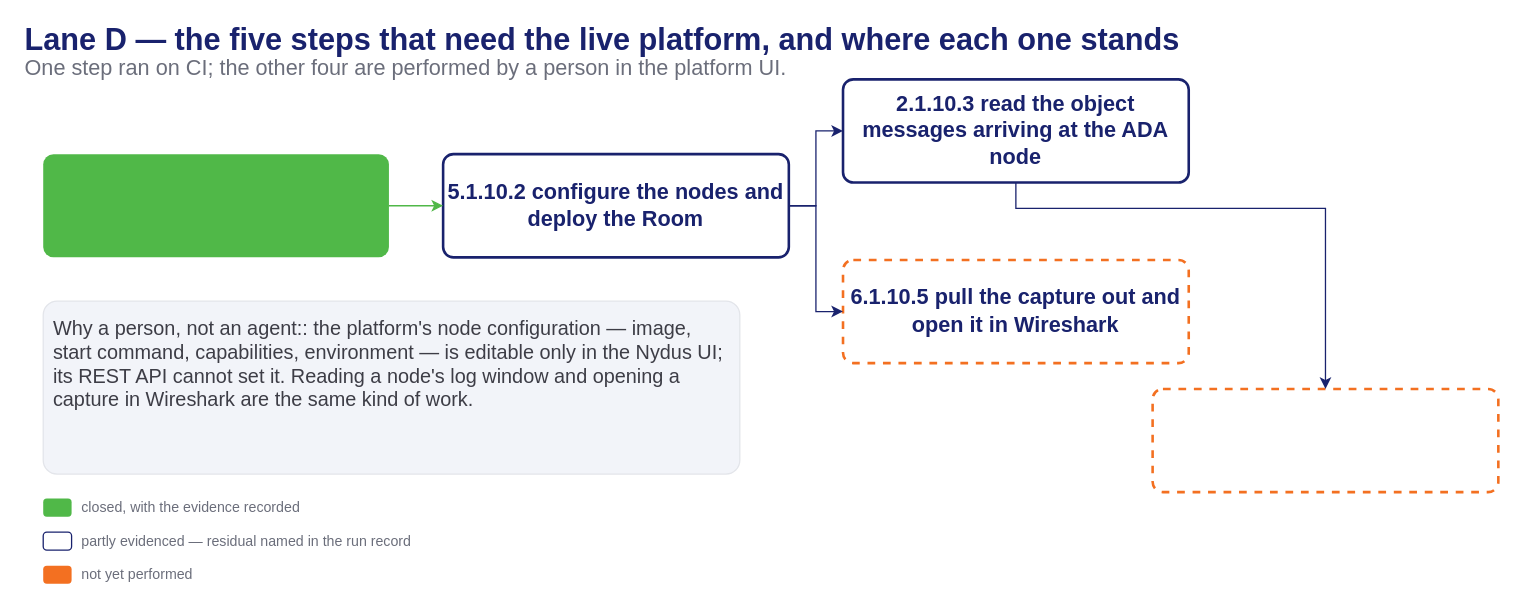
The diagram is 1530 pixels wide and 610 high, and some of its shapes have lost their labels. The centre of each missing label's shape, as x and y in pixels:
"11.1.10.4 swap the scenario file, compare the two runs" goes at (1325,440).
"5.1.10.1 push all three images to the platform registry" goes at (215,205).
